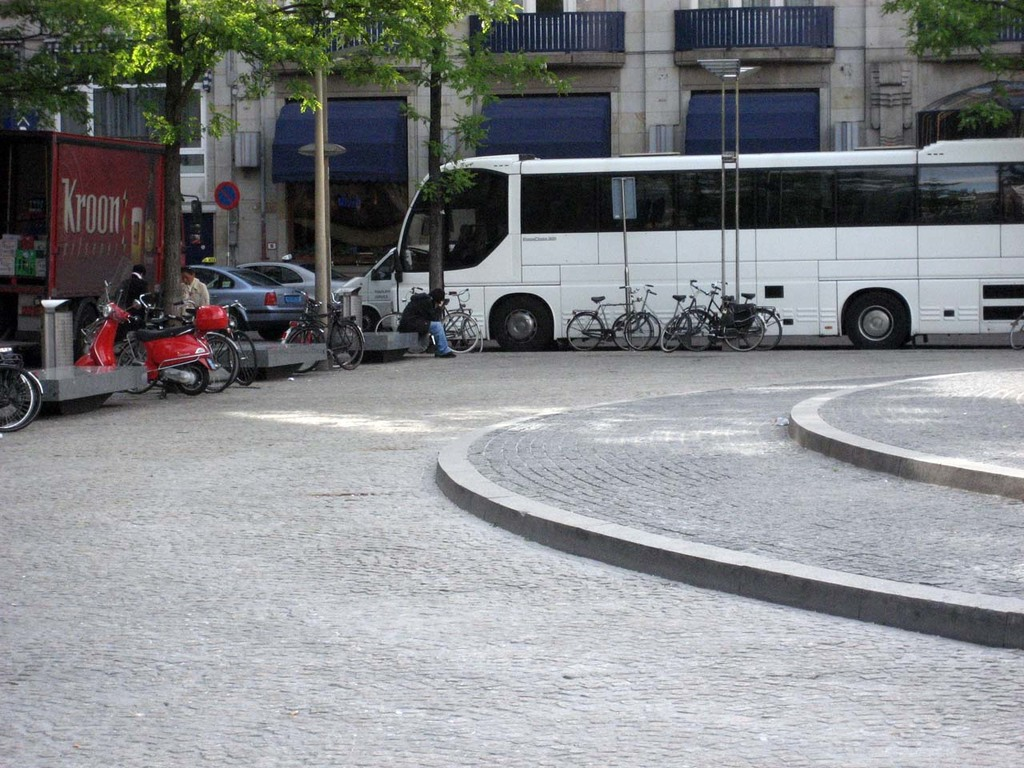Car: (208, 257, 359, 303)
